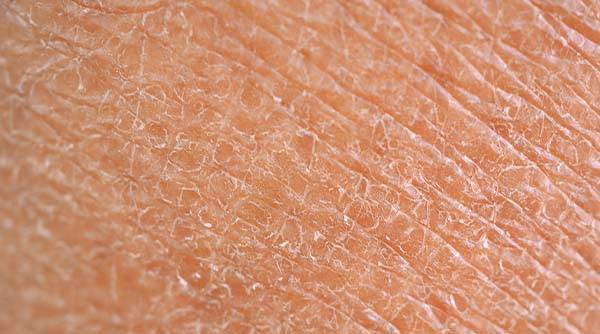Dry-Skin: (0, 2, 600, 334)
